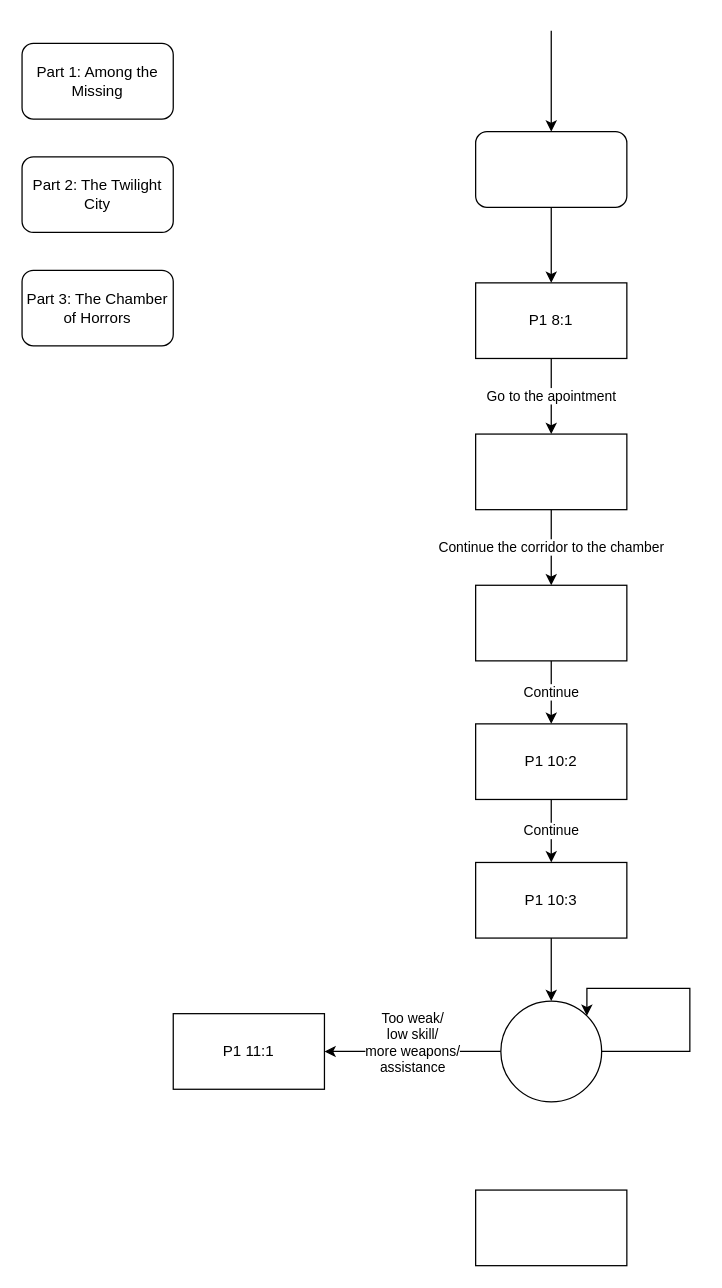
This 722x1288 diagram has some shape labels left out. The centre of each missing label's shape, as x and y in pixels:
P1 10:1: point (550, 622)
P1 8:2: point (550, 471)
Part 1: point (550, 168)
Questions: point (551, 1051)
